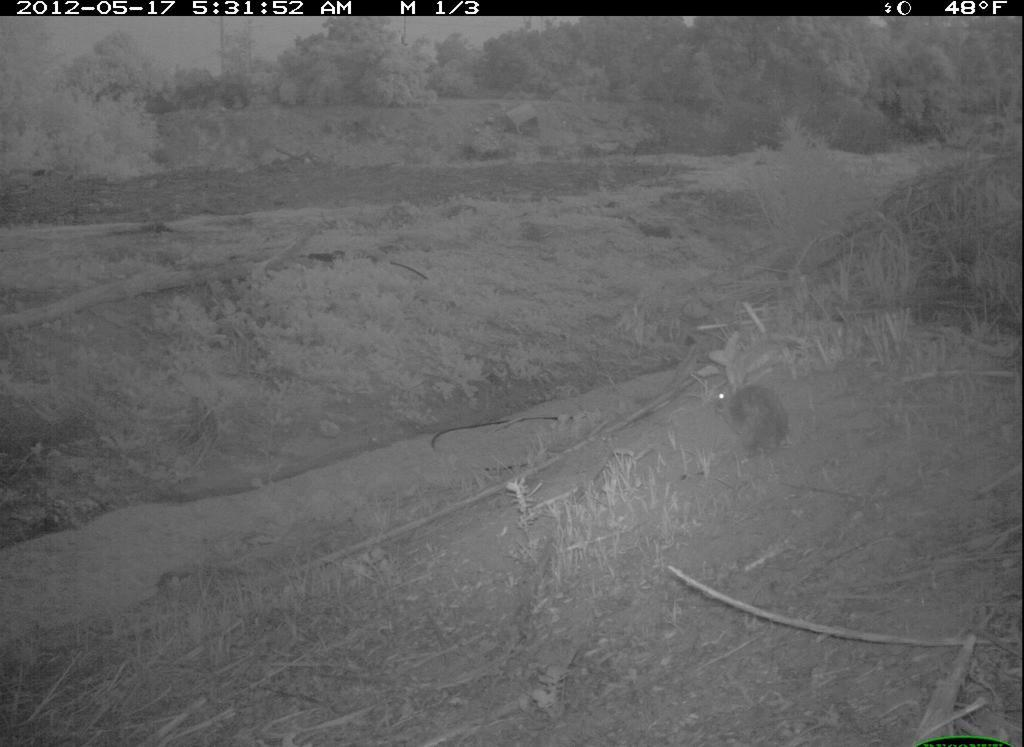rabbit: (705, 372, 798, 465)
